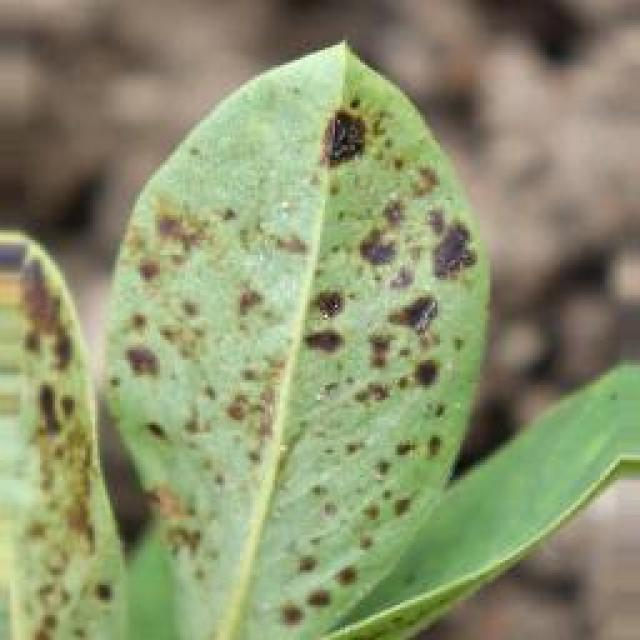Whitefly: (0, 37, 538, 640)
